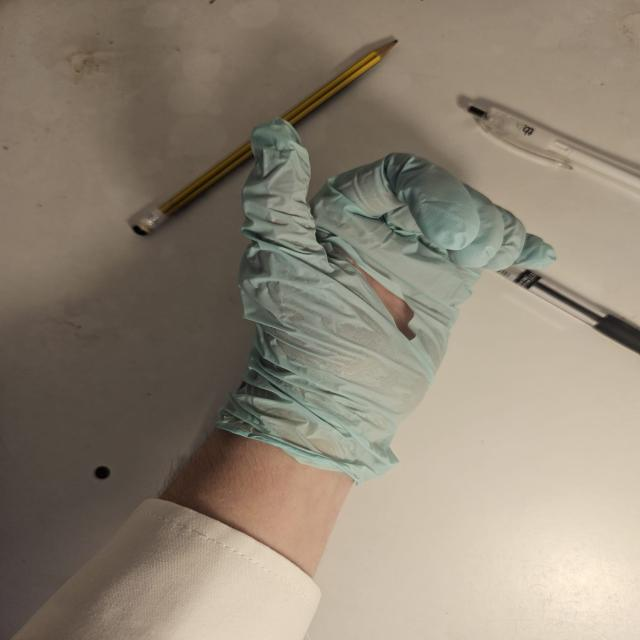gloves_damaged: (213, 117, 564, 480)
